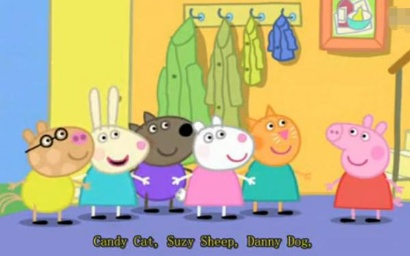Peppa: (324, 113, 405, 228)
